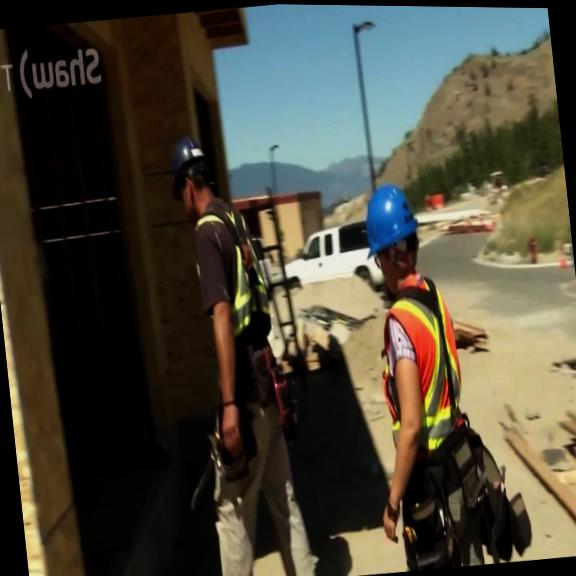safety_vest: (370, 267, 471, 464), (189, 203, 274, 344)
